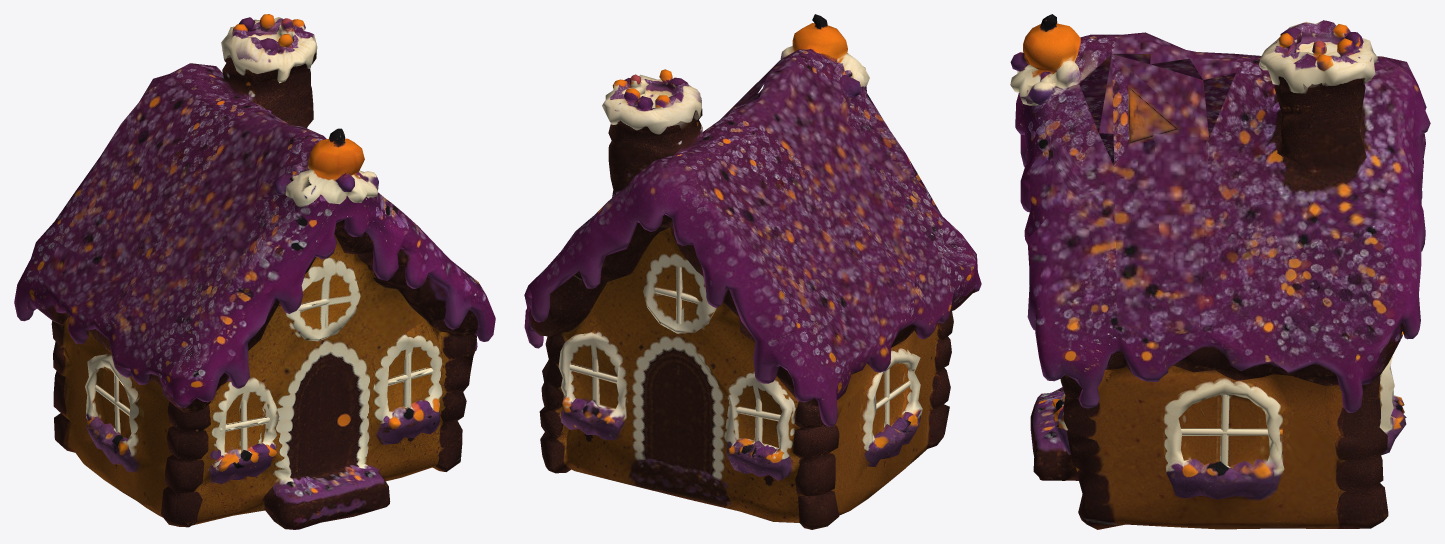
File: AW-HW-HOUSE-001-v0.2.glb
3 renders of one model, left to right at view 1: azimuth 30°, elevation 25°; view 2: azimuth 150°, elevation 25°; view 3: azimuth 270°, elevation 25°, orthographic. The views are drawn at different scales.
Parts seen in each view (by area): view 1: AW-HW-HOUSE-001_meter_ground_pivot; view 2: AW-HW-HOUSE-001_meter_ground_pivot; view 3: AW-HW-HOUSE-001_meter_ground_pivot.
Boxes of the visible parts, <box> form: AW-HW-HOUSE-001_meter_ground_pivot: <box>14,14,495,529</box>; AW-HW-HOUSE-001_meter_ground_pivot: <box>524,14,981,529</box>; AW-HW-HOUSE-001_meter_ground_pivot: <box>1010,14,1430,529</box>.
Bounding box in the file's own units: 3.09 × 3.5 × 2.94.
Materials: 1 (1 with a texture image).
